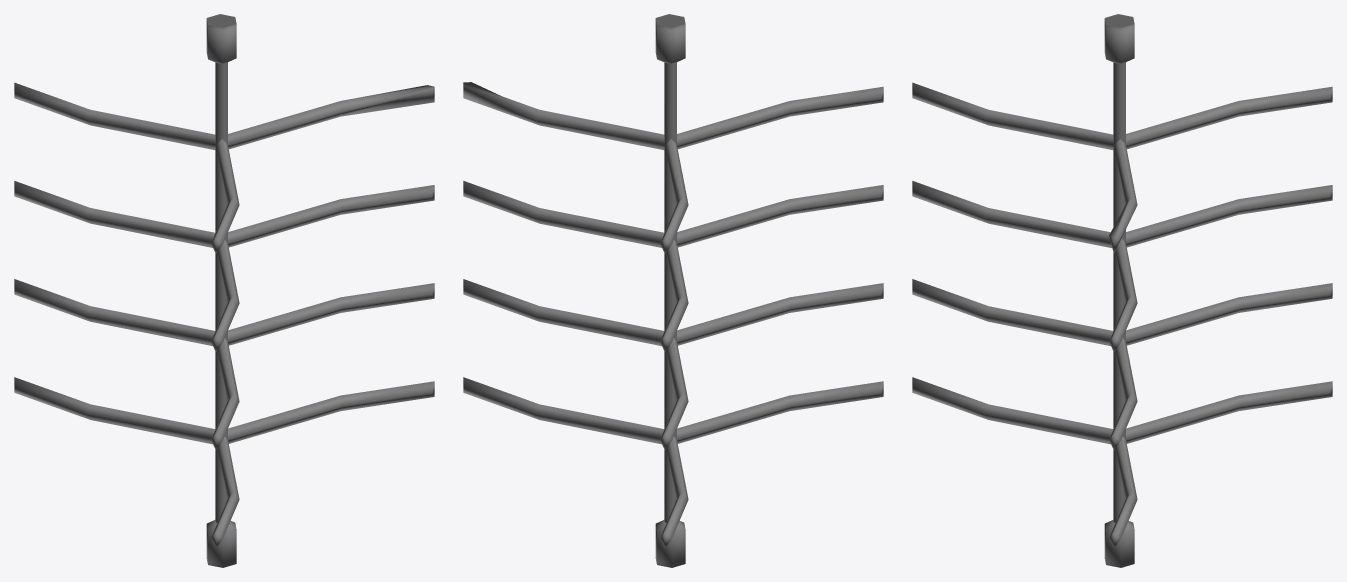
The model's file is SW_ENV_Turnstile.fbx.
3 renders of one model, left to right at view 1: azimuth 30°, elevation 25°; view 2: azimuth 150°, elevation 25°; view 3: azimuth 270°, elevation 25°, orthographic.
Parts seen in each view (by area): view 1: SW_ENV_Turnstile; view 2: SW_ENV_Turnstile; view 3: SW_ENV_Turnstile.
Boxes of the visible parts, x1,y1,x2,y2 form: SW_ENV_Turnstile: [14, 14, 434, 567]; SW_ENV_Turnstile: [463, 14, 883, 567]; SW_ENV_Turnstile: [912, 14, 1332, 567].
Size of the model in its own units: 1.71 by 2.75 by 1.94.
